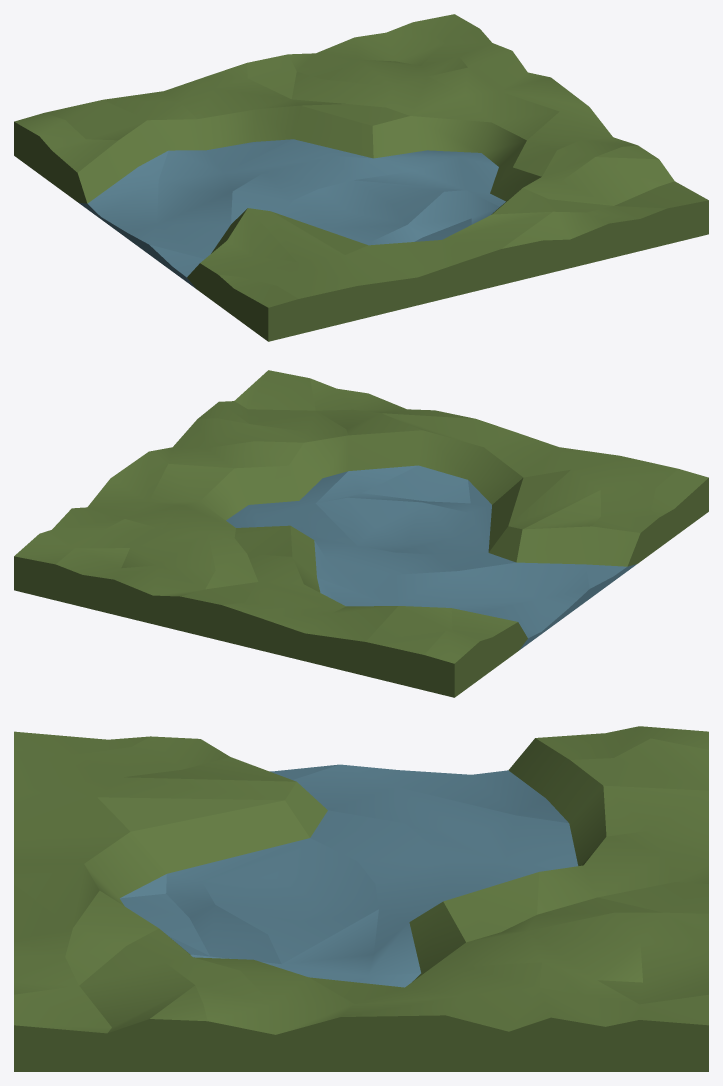
File: Water_River_Ending_R.glb
3 renders of one model, top to bottom at view 1: azimuth 30°, elevation 25°; view 2: azimuth 150°, elevation 25°; view 3: azimuth 270°, elevation 25°, orthographic. The views are drawn at different scales.
Parts seen in each view (by area): view 1: Water_River_Ending_R; view 2: Water_River_Ending_R; view 3: Water_River_Ending_R.
Part boxes in pixels (left/top/right/bottom): Water_River_Ending_R: left=14, top=14, right=708, bottom=341; Water_River_Ending_R: left=14, top=370, right=708, bottom=697; Water_River_Ending_R: left=14, top=726, right=708, bottom=1071.
Bounding box in the file's own units: 1.47 × 0.1393 × 1.47.
